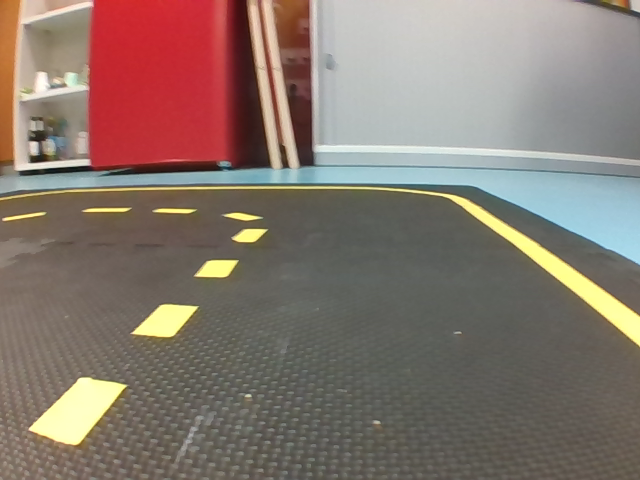stop: (236, 85, 264, 142)
